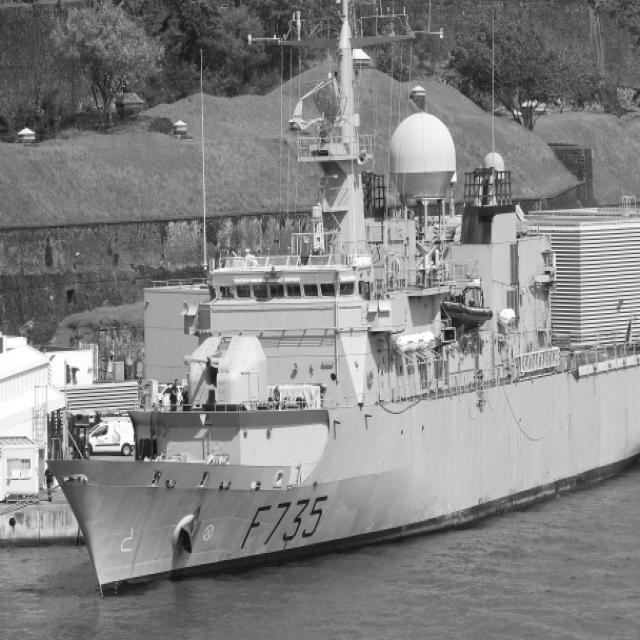Fragata: (41, 1, 640, 612)
